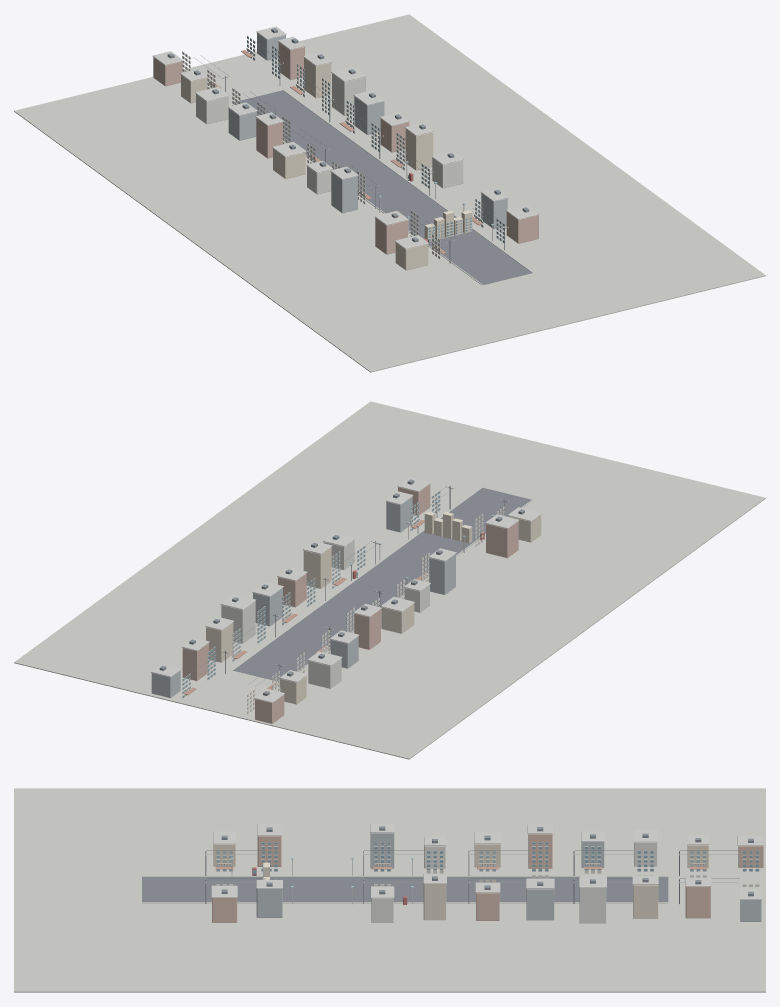
The model's file is city_day.glb.
3 renders of one model, top to bottom at view 1: azimuth 30°, elevation 25°; view 2: azimuth 150°, elevation 25°; view 3: azimuth 270°, elevation 25°, orthographic. The views are drawn at different scales.
Visible parts, largest first — view 1: Static.Pavement, Static.Asphalt, Static.Concrete, Static.Wall.cream, Static.Wall.peach, Static.Wall.silver, Static.Wall.ivory, Static.Frame, Static.Steel, Static.Window; view 2: Static.Pavement, Static.Asphalt, Static.Concrete, Static.Wall.cream, Static.Wall.peach, Static.Wall.silver, Static.Wall.ivory, Static.Frame, Static.Steel, Static.Window; view 3: Static.Pavement, Static.Asphalt, Static.Concrete, Static.Wall.peach, Static.Wall.silver, Static.Wall.cream, Static.Wall.ivory, Static.Frame, Static.Steel, Static.Window, Static.Window.warm, Static.Awning.
Boxes of the visible parts, box(x1,y1,x2,y2) form: Static.Pavement: box(14, 14, 765, 372); Static.Asphalt: box(234, 90, 531, 284); Static.Concrete: box(152, 26, 539, 285); Static.Wall.cream: box(181, 58, 472, 270); Static.Wall.peach: box(153, 42, 538, 254); Static.Wall.silver: box(228, 33, 507, 228); Static.Wall.ivory: box(196, 73, 463, 194); Static.Frame: box(182, 35, 508, 258); Static.Steel: box(167, 28, 529, 263); Static.Window: box(234, 36, 504, 242); Static.Pavement: box(14, 401, 765, 759); Static.Asphalt: box(233, 488, 531, 681); Static.Concrete: box(151, 477, 541, 702); Static.Wall.cream: box(206, 511, 541, 704); Static.Wall.peach: box(182, 484, 518, 723); Static.Wall.silver: box(151, 496, 455, 698); Static.Wall.ivory: box(221, 539, 429, 688); Static.Frame: box(182, 486, 508, 714); Static.Steel: box(159, 479, 524, 695); Static.Window: box(183, 491, 480, 697); Static.Pavement: box(14, 788, 765, 992); Static.Asphalt: box(142, 877, 668, 901); Static.Concrete: box(142, 823, 764, 904); Static.Wall.peach: box(212, 834, 763, 922); Static.Wall.silver: box(256, 833, 761, 921); Static.Wall.cream: box(213, 844, 708, 920); Static.Wall.ivory: box(371, 842, 657, 923); Static.Frame: box(205, 842, 759, 886); Static.Steel: box(205, 826, 753, 903); Static.Window: box(253, 842, 758, 877); Static.Window.warm: box(216, 851, 706, 887); Static.Awning: box(215, 866, 706, 869).
Bounding box in the file's own units: 64 × 6.07 × 100.
